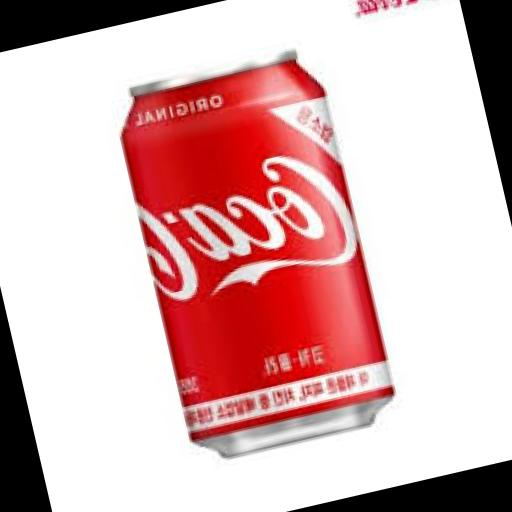Coca: (97, 42, 408, 480)
